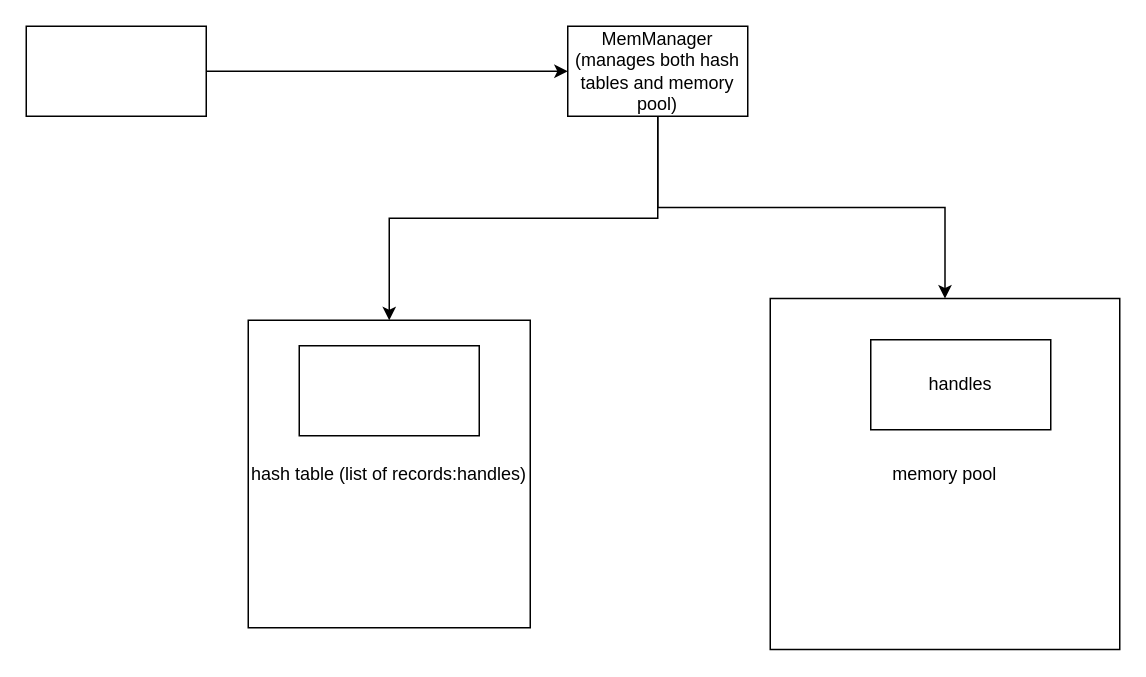
Image size: 1146x677. Some labels were removed from this diagram. Each missing label, with the box of its shape:
main (command line): (25, 25, 206, 116)
records: (298, 344, 479, 436)
